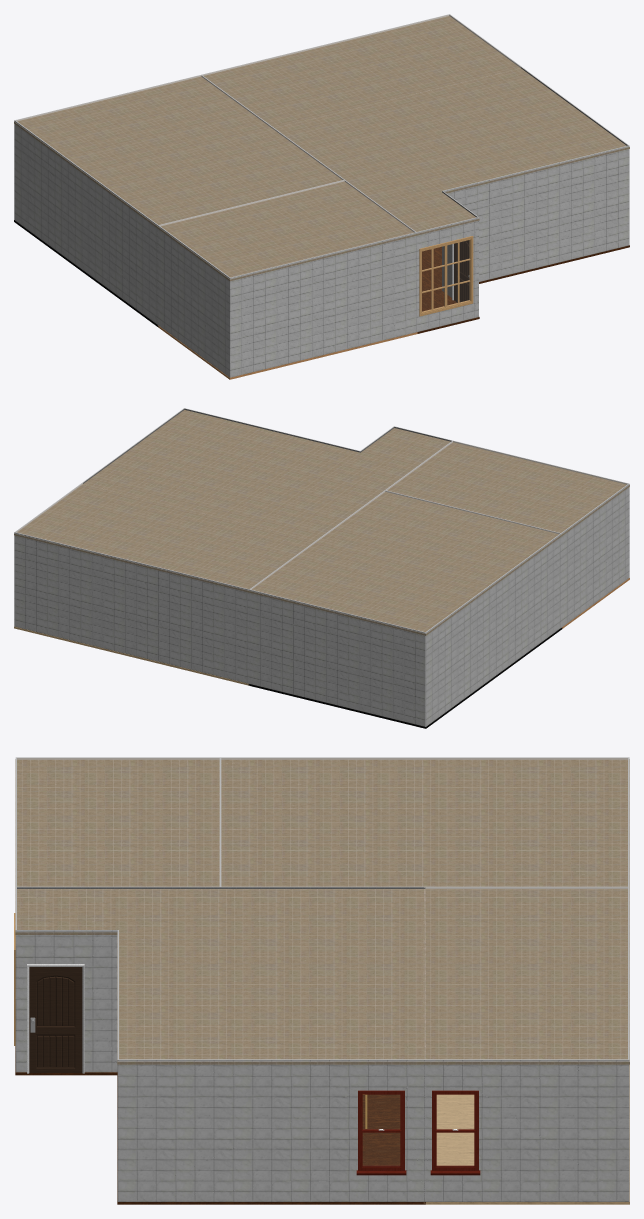
The model's file is ProcTHOR-Train-172.glb.
3 renders of one model, top to bottom at view 1: azimuth 30°, elevation 25°; view 2: azimuth 150°, elevation 25°; view 3: azimuth 270°, elevation 25°, orthographic. The views are drawn at different scales.
Parts seen in each view (by area): view 1: Ceiling#room|6|c, Ceiling#room|4|c, WallInside#wall|exterior|7.07|10.60|12.37|10.60, Ceiling#room|7|c, WallInside#wall|exterior|0.00|8.83|5.30|8.83, WallInside#wall|exterior|12.37|0.00|12.37|7.07, Ceiling#room|5|c, WallInside#wall|exterior|12.37|7.07|12.37|10.60, WallInside#wall|exterior|5.30|10.60|7.07|10.60, Floor#room|6|f, Window_Fixed_60x72, Doorway_9 (+2 smaller); view 2: Ceiling#room|6|c, Ceiling#room|4|c, WallInside#wall|exterior|0.00|0.00|7.07|0.00, WallInside#wall|exterior|7.07|0.00|12.37|0.00, Ceiling#room|7|c, WallInside#wall|exterior|12.37|0.00|12.37|7.07, Ceiling#room|5|c, WallInside#wall|exterior|12.37|7.07|12.37|10.60, Floor#room|4|f, Floor#room|7|f; view 3: Ceiling#room|6|c, Ceiling#room|4|c, WallInside#wall|exterior|0.00|3.53|0.00|8.83, Ceiling#room|7|c, Ceiling#room|5|c, WallInside#wall|exterior|0.00|0.00|0.00|3.53, WallInside#wall|exterior|5.30|8.83|5.30|10.60, Doorway_9, Floor#room|6|f, Floor#room|7|f, Window_Hung_32x60 (×2), WallInside#wall|4|12.37|0.00|12.37|7.07.
Boxes of the visible parts, x1,y1,x2,y2 form: Ceiling#room|6|c: (275,68,629,235); Ceiling#room|4|c: (14,76,342,228); WallInside#wall|exterior|7.07|10.60|12.37|10.60: (230,232,416,377); Ceiling#room|7|c: (204,16,520,127); WallInside#wall|exterior|0.00|8.83|5.30|8.83: (443,145,629,281); WallInside#wall|exterior|12.37|0.00|12.37|7.07: (14,120,158,324); Ceiling#room|5|c: (158,181,417,281); WallInside#wall|exterior|12.37|7.07|12.37|10.60: (157,225,229,377); WallInside#wall|exterior|5.30|10.60|7.07|10.60: (416,217,478,332); Floor#room|6|f: (417,245,629,333); Window_Fixed_60x72: (419,236,473,316); Doorway_9: (452,240,469,302); Ceiling#room|6|c: (83,410,452,540); Ceiling#room|4|c: (248,492,562,635); WallInside#wall|exterior|0.00|0.00|7.07|0.00: (14,532,249,683); WallInside#wall|exterior|7.07|0.00|12.37|0.00: (249,589,425,726); Ceiling#room|7|c: (14,484,314,592); WallInside#wall|exterior|12.37|0.00|12.37|7.07: (426,533,561,726); Ceiling#room|5|c: (386,442,629,535); WallInside#wall|exterior|12.37|7.07|12.37|10.60: (561,483,629,627); Floor#room|4|f: (248,627,562,728); Floor#room|7|f: (14,626,249,685); Ceiling#room|6|c: (15,889,425,1064); Ceiling#room|4|c: (219,759,629,889); WallInside#wall|exterior|0.00|3.53|0.00|8.83: (117,1059,425,1201); Ceiling#room|7|c: (423,889,629,1064); Ceiling#room|5|c: (15,759,221,889); WallInside#wall|exterior|0.00|0.00|0.00|3.53: (424,1059,629,1201); WallInside#wall|exterior|5.30|8.83|5.30|10.60: (15,930,117,1072); Doorway_9: (27,964,84,1073); Floor#room|6|f: (15,1046,425,1204); Floor#room|7|f: (424,1065,629,1204); Window_Hung_32x60 (×2): (356,1090,480,1175); WallInside#wall|4|12.37|0.00|12.37|7.07: (220,757,627,759).
Size of what is drawn, in the model's own units: 12.51 by 2.76 by 10.66.
310 materials, 143 textured.
